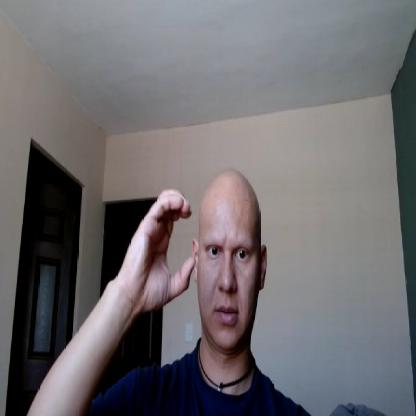C: (120, 188, 196, 310)
